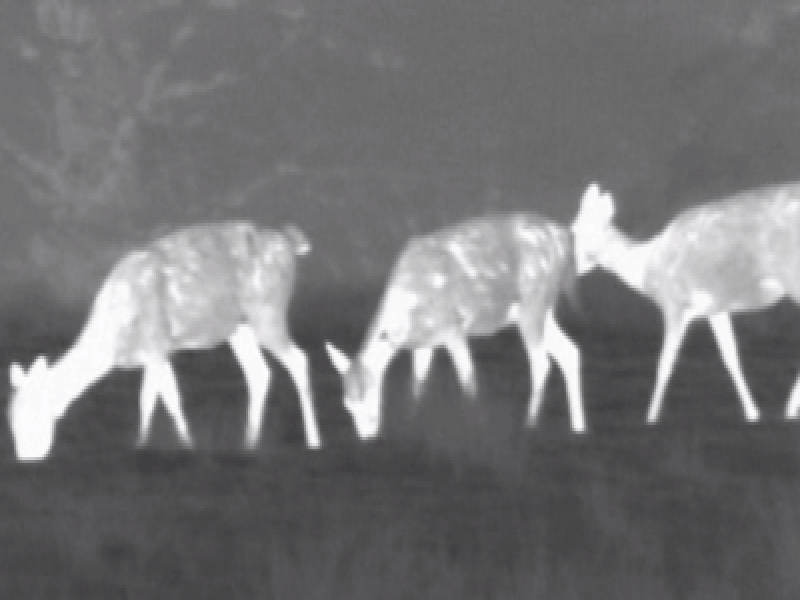cervo: (5, 215, 324, 480), (567, 167, 800, 426), (334, 209, 582, 442)
